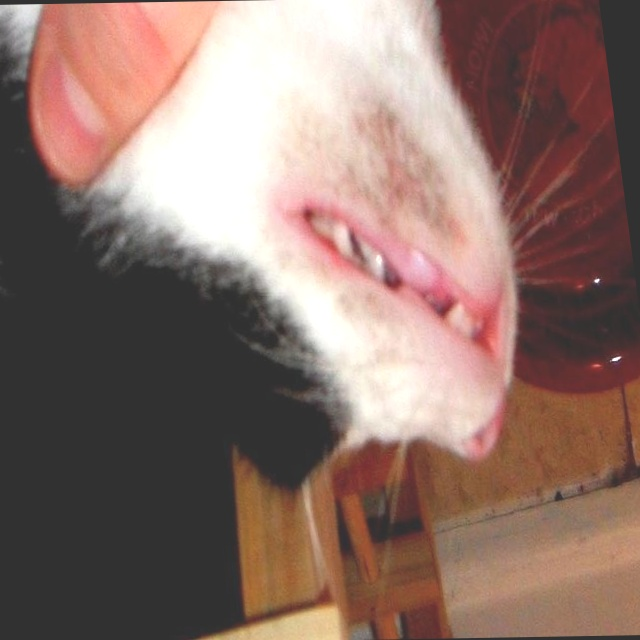acne: (326, 100, 472, 255)
